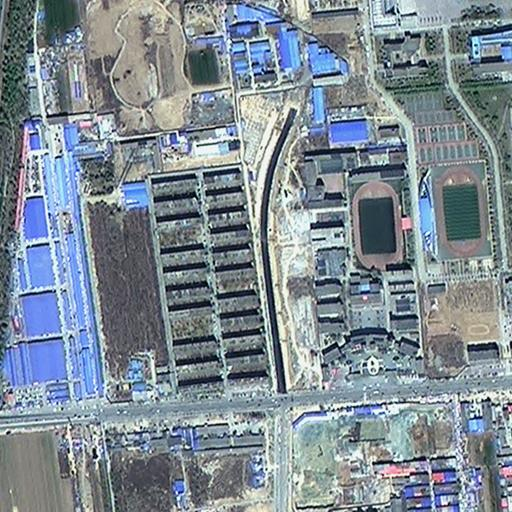school: (297, 142, 427, 377)
